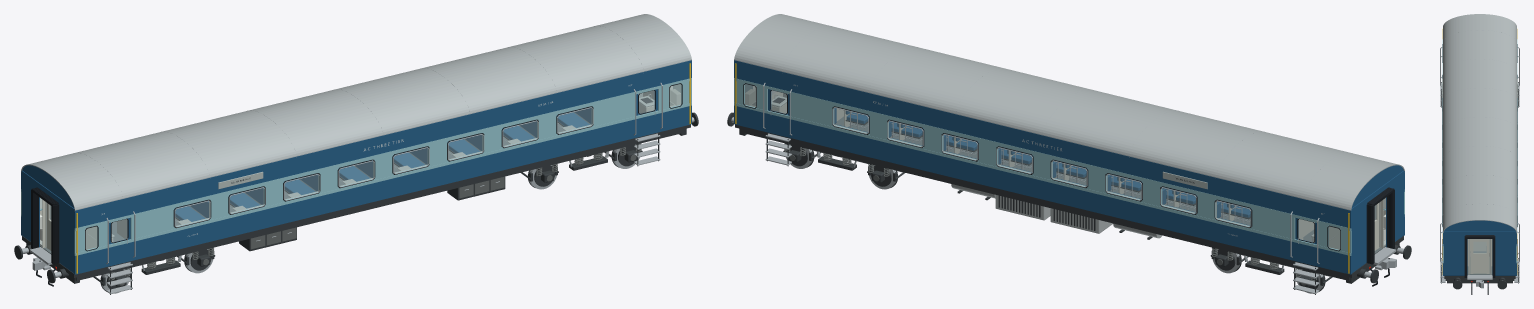
File: ICF_3A.fbx
3 views of the same model, side by side, from view 1: azimuth 30°, elevation 25°; view 2: azimuth 150°, elevation 25°; view 3: azimuth 270°, elevation 25° (orthographic). The views are drawn at different scales.
Parts seen in each view (by area): view 1: Pressed steel roof shell, Lower blue bodyside, Upper blue letterboard, Longitudinal underframe solebar, Structural coach floor, Cyan horizontal window band, Cyan horizontal window band.001, Coach end wall, Window zone pier.002, Window zone pier.010, Coach end wall.001, Curved end roof cap (+13 smaller); view 2: Pressed steel roof shell, Lower blue bodyside.001, Upper blue letterboard.001, Longitudinal underframe solebar.001, Structural coach floor, Cyan horizontal window band.002, Cyan horizontal window band.003, Finished lino floor, Window zone pier.014, Window zone pier.022, Coach end wall.001, Underslung air conditioning condenser (+16 smaller); view 3: Pressed steel roof shell, Coach end wall.002, Coach end wall.003, Curved end roof cap.001, End top header.001, Vestibule lower door.001, Buffer beam, Cyan horizontal window band.001, Cyan horizontal window band.003, Finished lino floor, Saloon end bulkhead.002, Gangway bellows pleat.026 (+10 smaller).
Part boxes in pixels (box(x1,y1,x2,y2)): Pressed steel roof shell: box(21, 14, 691, 211); Lower blue bodyside: box(74, 105, 691, 274); Upper blue letterboard: box(74, 60, 691, 229); Longitudinal underframe solebar: box(75, 128, 686, 280); Structural coach floor: box(22, 124, 690, 277); Cyan horizontal window band: box(74, 103, 691, 255); Cyan horizontal window band.001: box(74, 78, 691, 231); Coach end wall: box(57, 198, 74, 273); Window zone pier.002: box(130, 207, 174, 239); Window zone pier.010: box(592, 94, 635, 126); Coach end wall.001: box(22, 173, 39, 247); Curved end roof cap: box(22, 165, 73, 207); Pressed steel roof shell: box(734, 14, 1404, 210); Lower blue bodyside.001: box(734, 105, 1351, 274); Upper blue letterboard.001: box(734, 60, 1351, 230); Longitudinal underframe solebar.001: box(739, 128, 1350, 280); Structural coach floor: box(735, 124, 1403, 277); Cyan horizontal window band.002: box(734, 103, 1351, 255); Cyan horizontal window band.003: box(734, 78, 1351, 231); Finished lino floor: box(835, 116, 1385, 253); Window zone pier.014: box(1251, 207, 1295, 239); Window zone pier.022: box(790, 94, 833, 126); Coach end wall.001: box(1351, 206, 1366, 273); Underslung air conditioning condenser: box(1050, 208, 1112, 233); Pressed steel roof shell: box(1443, 14, 1516, 233); Coach end wall.002: box(1444, 232, 1467, 275); Coach end wall.003: box(1492, 232, 1515, 275); Curved end roof cap.001: box(1444, 220, 1515, 231); End top header.001: box(1444, 231, 1515, 236); Vestibule lower door.001: box(1472, 253, 1487, 273); Buffer beam: box(1447, 279, 1512, 283); Cyan horizontal window band.001: box(1442, 39, 1443, 246); Cyan horizontal window band.003: box(1516, 39, 1517, 246); Finished lino floor: box(1467, 239, 1492, 274); Saloon end bulkhead.002: box(1470, 239, 1486, 251); Gangway bellows pleat.026: box(1464, 238, 1467, 277).
Size of the model in its own units: 350 by 2246 by 405.
